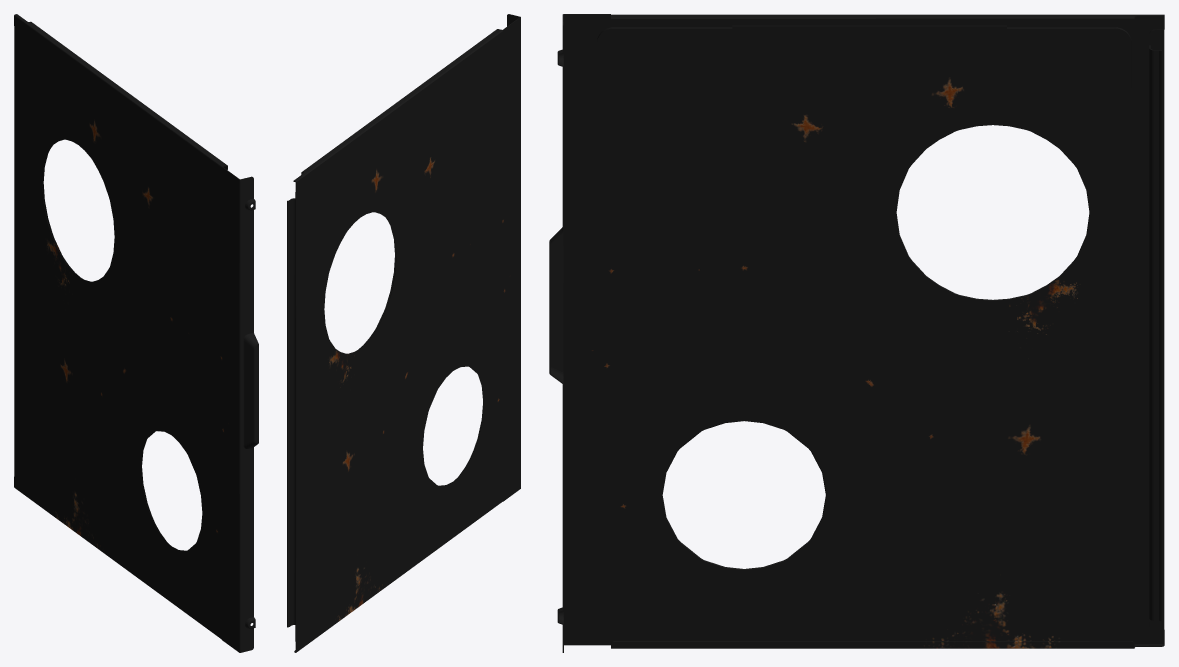
File: PanelPrawyDziura.fbx
3 renders of one model, left to right at view 1: azimuth 30°, elevation 25°; view 2: azimuth 150°, elevation 25°; view 3: azimuth 270°, elevation 25°, orthographic. The views are drawn at different scales.
Visible parts, largest first — view 1: PanelPrawy; view 2: PanelPrawy; view 3: PanelPrawy.
Part boxes in pixels (<box>): PanelPrawy: <box>14,14,258,652</box>; PanelPrawy: <box>287,14,520,652</box>; PanelPrawy: <box>549,14,1164,652</box>.
Size of the model in its own units: 9.09 by 291 by 258.
Materials: 1 (1 with a texture image).
